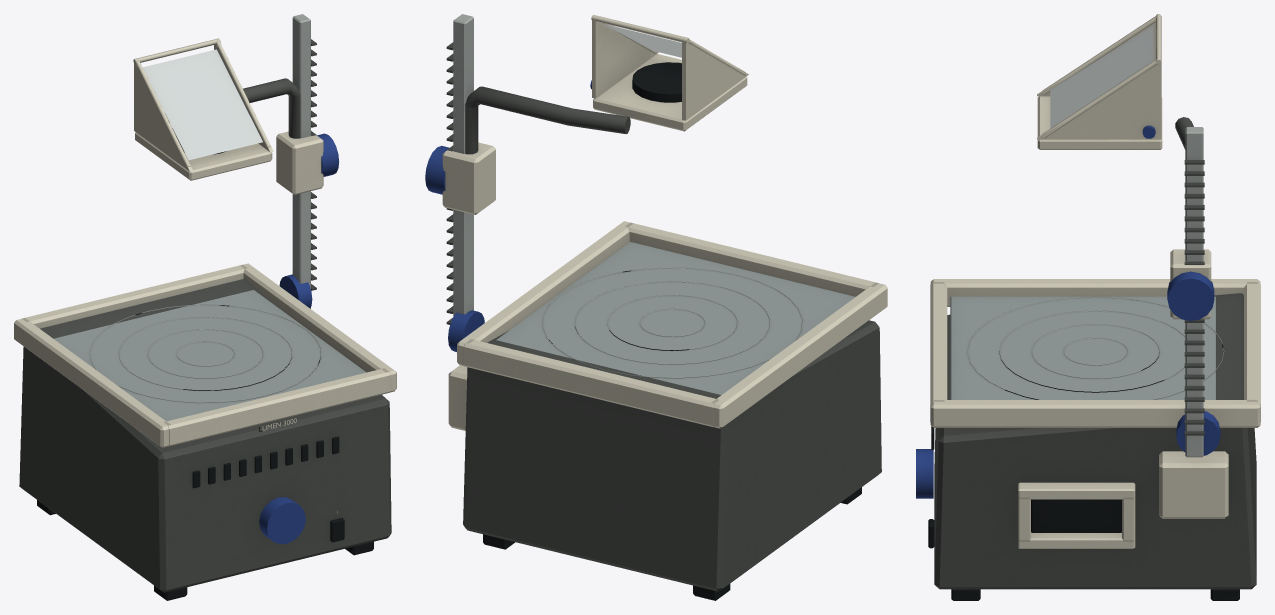
The model's file is school_overhead_projector.glb.
3 views of the same model, side by side, from view 1: azimuth 30°, elevation 25°; view 2: azimuth 150°, elevation 25°; view 3: azimuth 270°, elevation 25° (orthographic). The views are drawn at different scales.
Parts seen in each view (by area): view 1: school_overhead_projector_Body; view 2: school_overhead_projector_Body; view 3: school_overhead_projector_Body.
Part boxes in pixels (x1,y1,x2,y2): school_overhead_projector_Body: (14, 14, 396, 600); school_overhead_projector_Body: (425, 14, 887, 600); school_overhead_projector_Body: (916, 14, 1260, 600).
Size of the model in its own units: 0.4965 by 0.7655 by 0.4705.
1 material, 1 textured.
